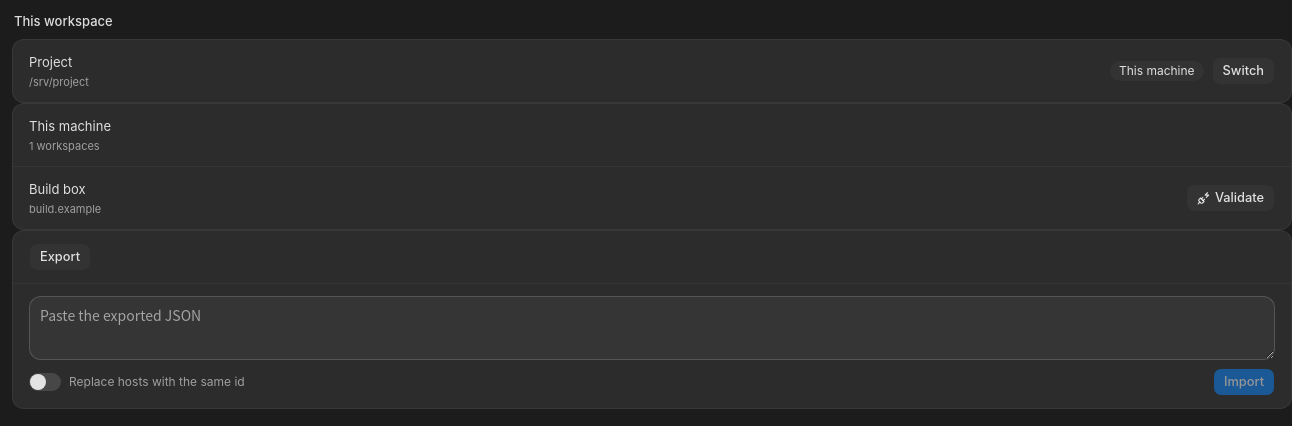
Test: execution hosts page › withholds stop-and-switch when a draft is in the way
The image size is (1292, 426).
Expected: the text "Build box" is shown, [29,181,86,197]
What coordinates should you click on to do the following:
click the button "Switch"
I would click on:
 (1243, 71)
Its box is [1212,57,1275,85].
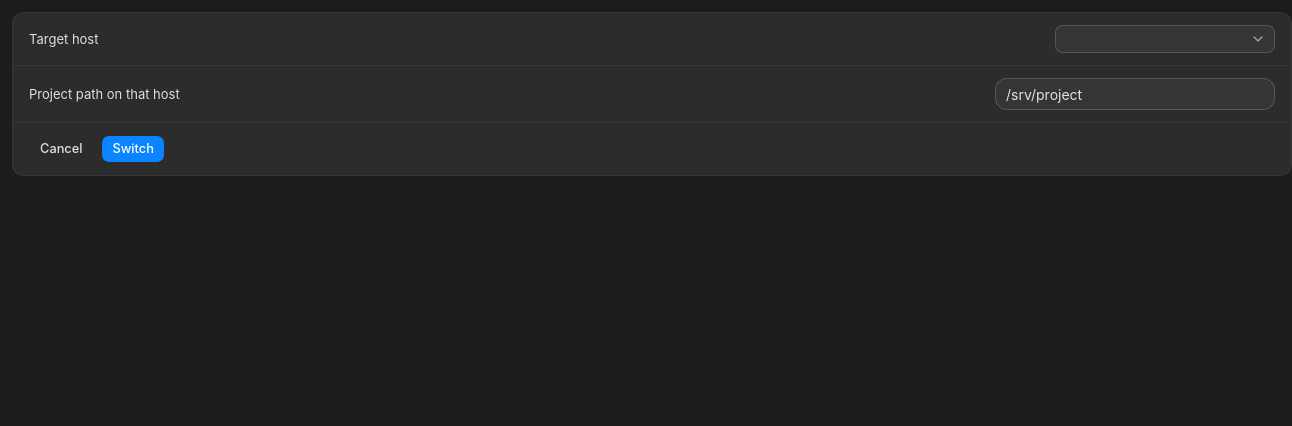
What coordinates should you click on to do the following:
click the button "Switch"
I would click on:
 (133, 149)
Its box is [102,135,165,163].
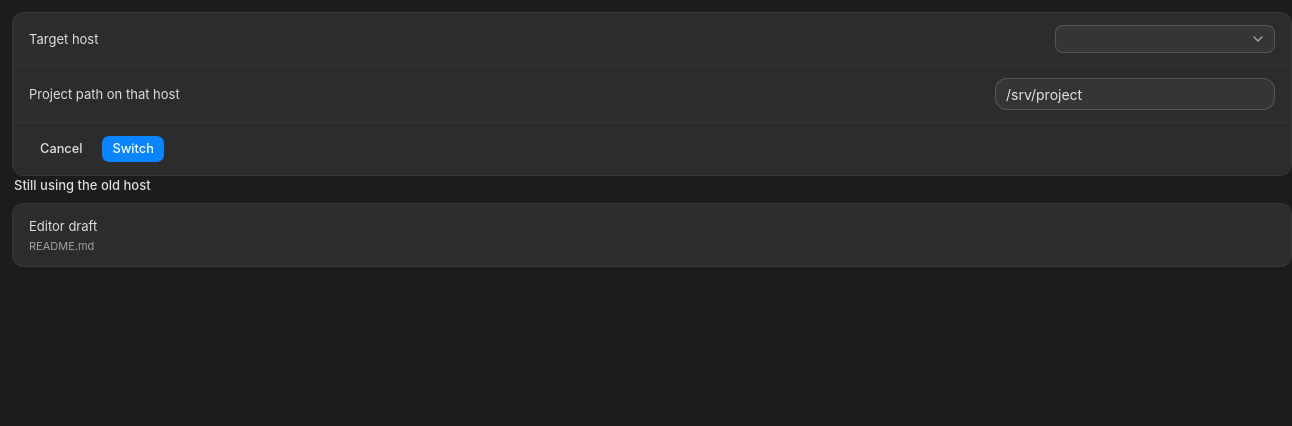
Expected: the text "Editor draft" is shown, [29,216,97,236]
